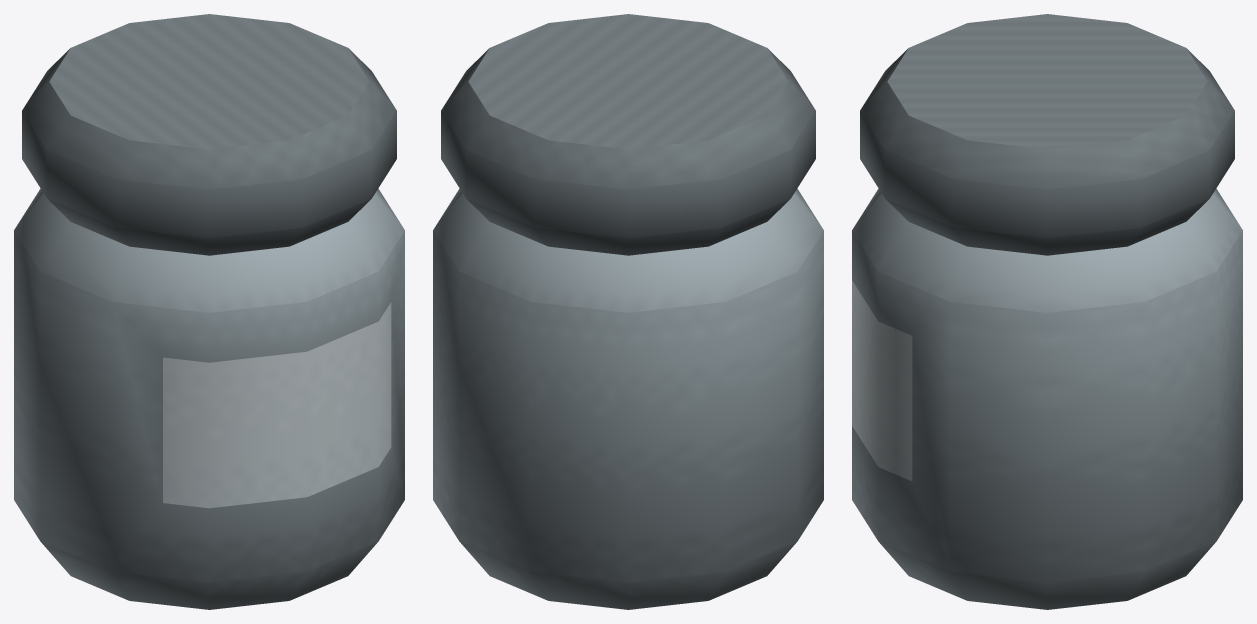
Rendered from jar_B_medium.gltf.
3 renders of one model, left to right at view 1: azimuth 30°, elevation 25°; view 2: azimuth 150°, elevation 25°; view 3: azimuth 270°, elevation 25°, orthographic.
Parts seen in each view (by area): view 1: jar_B_medium; view 2: jar_B_medium; view 3: jar_B_medium.
Boxes of the visible parts, x1=… form: jar_B_medium: x1=14, y1=14, x2=404, y2=609; jar_B_medium: x1=433, y1=14, x2=823, y2=609; jar_B_medium: x1=852, y1=14, x2=1242, y2=609.
Size of the model in its own units: 0.5 by 0.65 by 0.5.
Materials: 1 (1 with a texture image).
